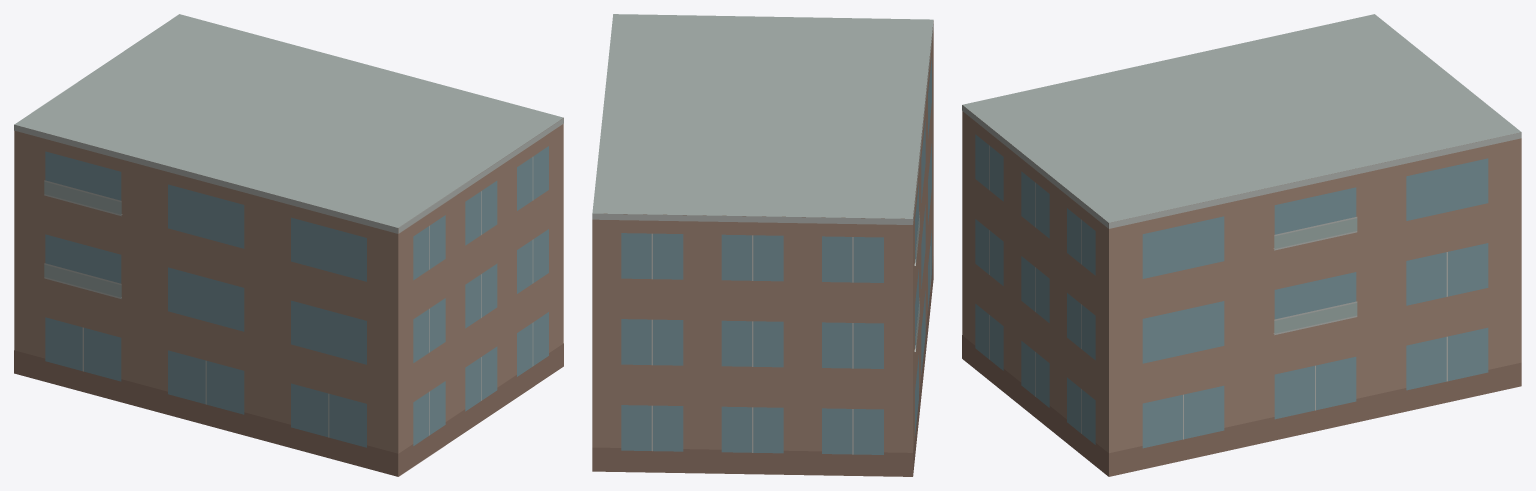
Rendered from survey-upis-32833602.glb.
3 views of the same model, side by side, from view 1: azimuth 30°, elevation 25°; view 2: azimuth 150°, elevation 25°; view 3: azimuth 270°, elevation 25° (orthographic). The views are drawn at different scales.
Visible parts, largest first — view 1: survey-upis-32833602.tmp; view 2: survey-upis-32833602.tmp; view 3: survey-upis-32833602.tmp.
Part boxes in pixels (box(x1,y1,x2,y2)): survey-upis-32833602.tmp: box(14, 14, 563, 476); survey-upis-32833602.tmp: box(592, 14, 933, 476); survey-upis-32833602.tmp: box(962, 14, 1521, 476).
Bounding box in the file's own units: 18 × 10.2 × 20.37.
